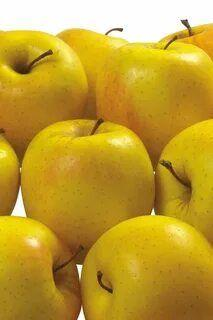Apple: (82, 217, 213, 316), (3, 217, 81, 320), (1, 32, 88, 118), (157, 118, 212, 216)
